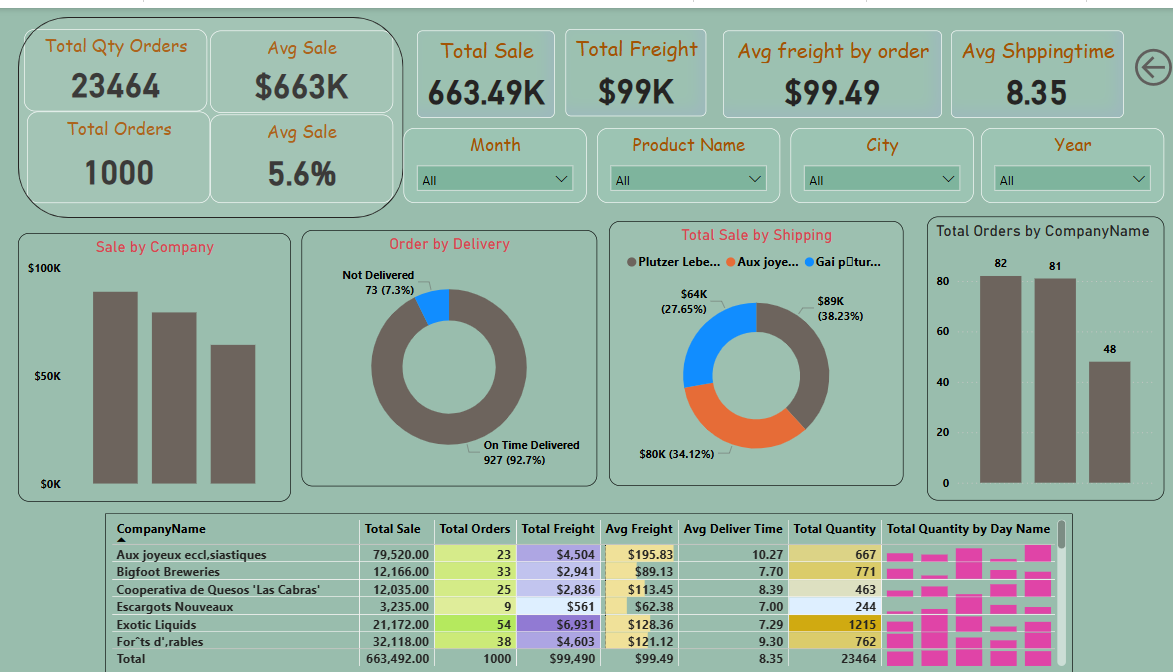

The dashboard page shown, as its layout file describes it:
{"tool":"powerbi","page":{"name":"Shipping Insight","canvas":[1280,720],"ordinal":5},"visuals":[{"type":"card","title":"Total Qty Orders","fields":{"Values":["Sum(power_bi orders.Quantity)"]},"box":[29.3,22.8,198.4,89.5],"z":0},{"type":"card","title":"Total Orders","fields":{"Values":["power_bi orders.Total Orders"]},"box":[32.5,112.2,198.4,99.2],"z":1000},{"type":"card","title":"Avg Sale","fields":{"Values":["power_bi orders.Avg Sale"]},"box":[231,24.4,198.4,89.5],"z":2000},{"type":"card","title":"Avg Sale","fields":{"Values":["power_bi orders.Avg of Discount"]},"box":[231,115.5,198.4,96],"z":3000},{"type":"shape","box":[22.8,9.8,418,218],"z":4000},{"type":"card","title":"Total Sale","fields":{"Values":["power_bi orders.total sales"]},"box":[455.4,24.4,149.6,94.3],"z":5000},{"type":"card","title":"Total Freight","fields":{"Values":["power_bi orders.Total Freight"]},"box":[616.5,22.8,152.9,94.3],"z":6000},{"type":"card","title":"Avg freight by order","fields":{"Values":["power_bi orders.Avg Freight By Order"]},"box":[787.2,24.4,237.5,94.3],"z":7000},{"type":"card","title":"Avg Shppingtime","fields":{"Values":["power_bi orders.Avg Deliver Time"]},"box":[1034.5,24.4,187.1,94.3],"z":8000},{"type":"slicer","title":"Month","fields":{"Values":["power_bi calendar.Month Name"]},"box":[440.8,130.1,198.4,81.3],"z":9000},{"type":"slicer","title":"Product Name","fields":{"Values":["power_bi products.ProductName"]},"box":[650.6,130.1,198.4,81.3],"z":10000},{"type":"slicer","title":"City","fields":{"Values":["power_bi customers.City"]},"box":[860.4,130.1,198.4,81.3],"z":11000},{"type":"slicer","title":"Year","fields":{"Values":["power_bi calendar.Year"]},"box":[1067,130.1,198.4,81.3],"z":12000},{"type":"clusteredColumnChart","title":"Sale by Company","fields":{"Category":["power_bi suppliers.CompanyName"],"Y":["Sum(power_bi orders.Total_Amount)"]},"box":[22.8,244,296,291.2],"z":13000},{"type":"donutChart","title":" Order by Delivery","fields":{"Category":["power_bi orders.Delivery Status"],"Y":["CountNonNull(power_bi orders.Delivery Status)"]},"box":[330.2,240.7,320.4,278.1],"z":14000},{"type":"donutChart","title":"Total Sale by Shipping","fields":{"Category":["power_bi suppliers.CompanyName"],"Y":["Sum(power_bi orders.Total_Amount)"]},"box":[663.3,230.6,319.4,287.2],"z":15000},{"type":"columnChart","fields":{"Y":["power_bi orders.Total Orders"],"Category":["power_bi suppliers.CompanyName"]},"box":[1009.1,226.8,257,308],"z":16000},{"type":"tableEx","fields":{"Values":["power_bi suppliers.CompanyName","power_bi orders.total sales","power_bi orders.Total Orders","power_bi orders.Total Freight","power_bi orders.Avg Freight","power_bi orders.Avg Deliver Time","power_bi orders.Total Quantity","SparklineData(power_bi orders.Total Quantity_[power_bi calendar.Day Name])"]},"box":[117.1,548.1,1049.1,172.4],"z":17000},{"type":"actionButton","box":[1228,27.7,52,73.2],"z":18000}]}

Visuals, with their boxes in screenshot pixels (x1, y1, x2, y2), scaled from the page's 1280x720 canvas onto the 1173x672 screenshot:
"Total Qty Orders" card: [x1=27, y1=21, x2=209, y2=105]
"Total Orders" card: [x1=30, y1=105, x2=212, y2=197]
"Avg Sale" card: [x1=212, y1=23, x2=394, y2=106]
"Avg Sale" card: [x1=212, y1=108, x2=394, y2=197]
shape: [x1=21, y1=9, x2=404, y2=213]
"Total Sale" card: [x1=417, y1=23, x2=554, y2=111]
"Total Freight" card: [x1=565, y1=21, x2=705, y2=109]
"Avg freight by order" card: [x1=721, y1=23, x2=939, y2=111]
"Avg Shppingtime" card: [x1=948, y1=23, x2=1119, y2=111]
"Month" slicer: [x1=404, y1=121, x2=586, y2=197]
"Product Name" slicer: [x1=596, y1=121, x2=778, y2=197]
"City" slicer: [x1=788, y1=121, x2=970, y2=197]
"Year" slicer: [x1=978, y1=121, x2=1160, y2=197]
"Sale by Company" clusteredColumnChart: [x1=21, y1=228, x2=292, y2=500]
" Order by Delivery" donutChart: [x1=303, y1=225, x2=596, y2=484]
"Total Sale by Shipping" donutChart: [x1=608, y1=215, x2=901, y2=483]
columnChart - power_bi orders.Total Orders x power_bi suppliers.CompanyName: [x1=925, y1=212, x2=1160, y2=499]
tableEx - power_bi suppliers.CompanyName x power_bi orders.total sales: [x1=107, y1=512, x2=1069, y2=671]
actionButton: [x1=1125, y1=26, x2=1172, y2=94]
